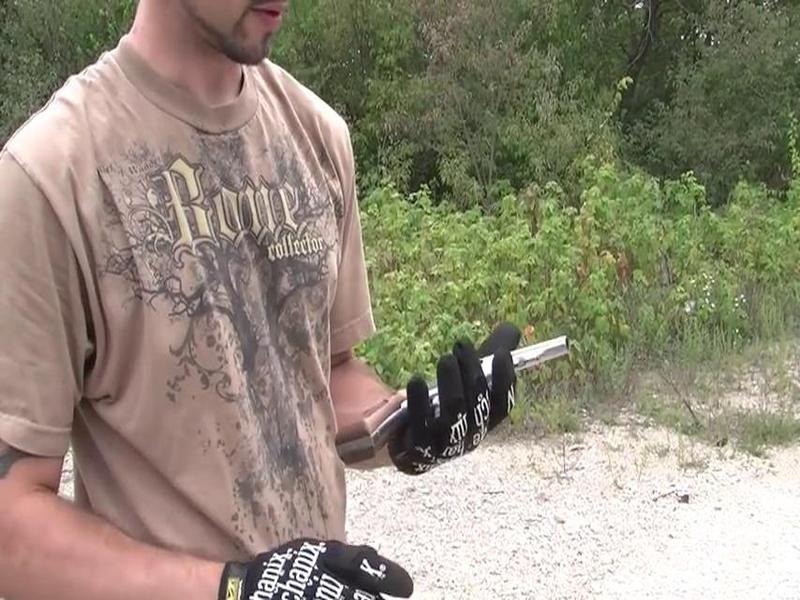Revolver: (311, 320, 583, 467)
